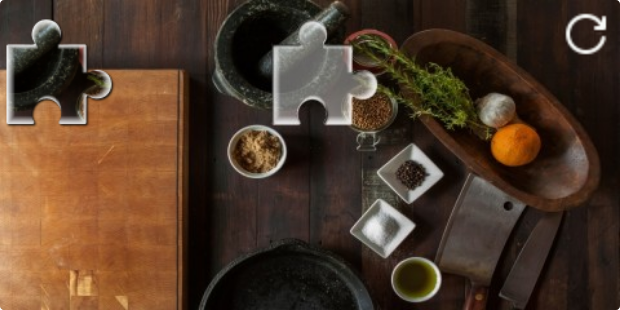target: (273, 21, 376, 125)
